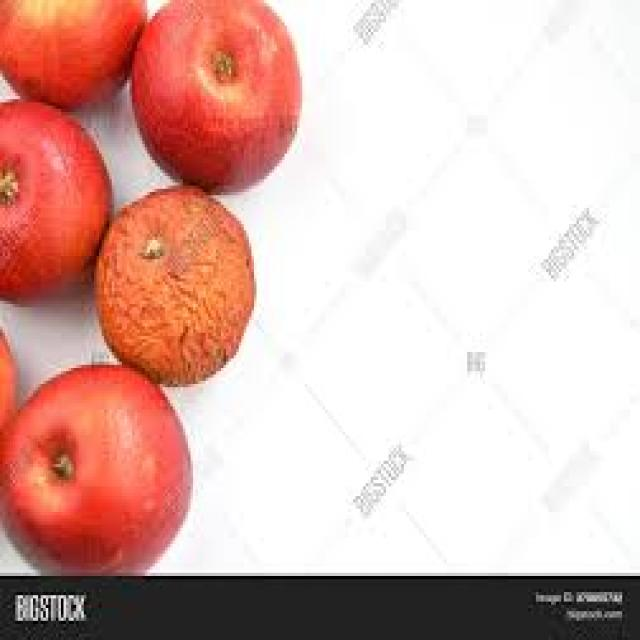organic waste: (0, 361, 190, 569), (127, 0, 300, 189), (94, 182, 251, 381), (0, 96, 109, 304), (0, 0, 145, 106), (0, 330, 13, 467)
